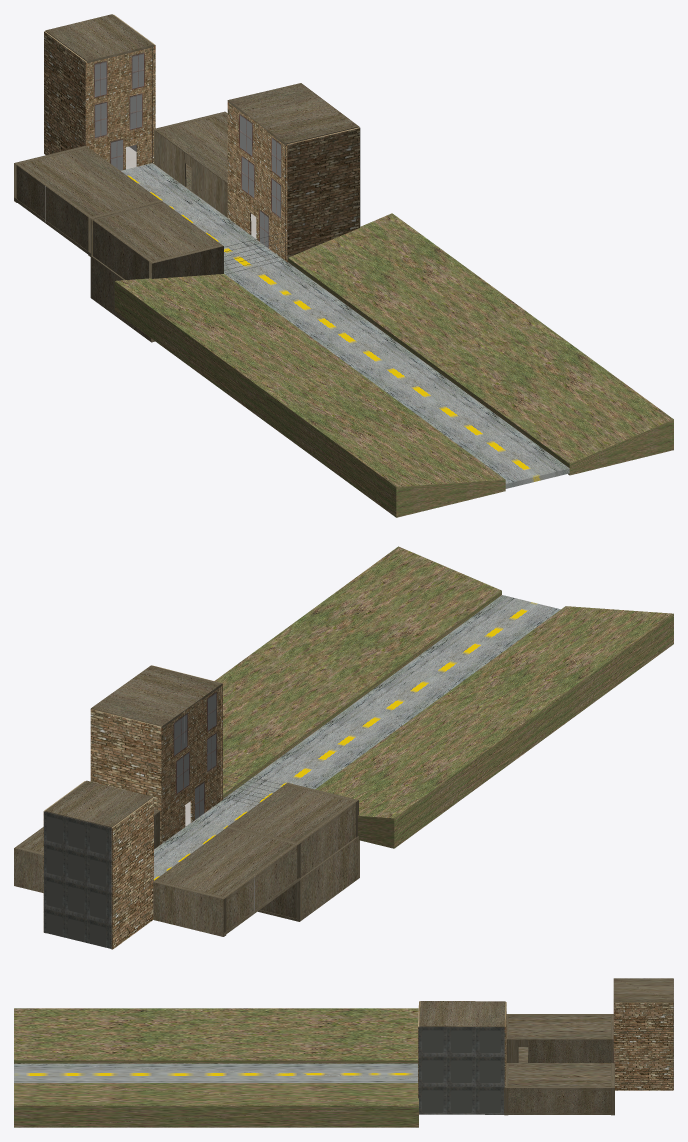
The model's file is citymap.fbx.
The picture shows the model from 3 angles, top to bottom: view 1: azimuth 30°, elevation 25°; view 2: azimuth 150°, elevation 25°; view 3: azimuth 270°, elevation 25°; orthographic projection. The views are drawn at different scales.
Parts seen in each view (by area): view 1: grass, road, building4, building1, building3, building5, building2, building4_ceiling, building1_ceiling, building5_basement; view 2: grass, road, building4, building3, building1_elevatorroom, building5, building1, building4_ceiling, building5_basement, building1_ceiling, building2; view 3: grass, road, building4_elevatorroom, building2, building1, building3, building4_ceiling, building1_ceiling, building4.
Boxes of the visible parts, box(x1,y1,x2,y2) form: grass: box(114, 213, 673, 517); road: box(121, 163, 569, 488); building4: box(227, 100, 359, 262); building1: box(44, 14, 155, 170); building3: box(14, 146, 162, 256); building5: box(92, 201, 223, 279); building2: box(154, 111, 227, 217); building4_ceiling: box(228, 83, 359, 145); building1_ceiling: box(45, 14, 153, 63); building5_basement: box(90, 255, 154, 342); grass: box(214, 546, 673, 848); road: box(154, 595, 560, 880); building4: box(90, 665, 222, 844); building3: box(153, 826, 299, 936); building1_elevatorroom: box(44, 811, 111, 948); building5: box(226, 782, 358, 878); building1: box(43, 781, 153, 949); building4_ceiling: box(91, 665, 222, 728); building5_basement: box(258, 836, 359, 921); building1_ceiling: box(45, 780, 152, 827); building2: box(14, 809, 160, 892); grass: box(14, 1008, 418, 1127); road: box(14, 1063, 417, 1082); building4_elevatorroom: box(418, 1026, 504, 1114); building2: box(504, 1063, 614, 1115); building1: box(613, 1002, 673, 1090); building3: box(506, 1014, 613, 1062); building4_ceiling: box(419, 1001, 505, 1027); building1_ceiling: box(613, 978, 673, 1002); building4: box(418, 1001, 506, 1098).
Bounding box in the file's own units: 1127 × 636 × 3228.
